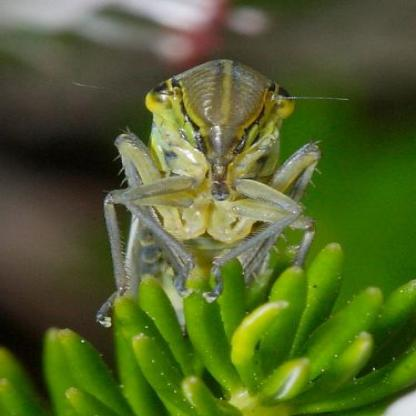Green-Leafhopper: (93, 41, 356, 326)
